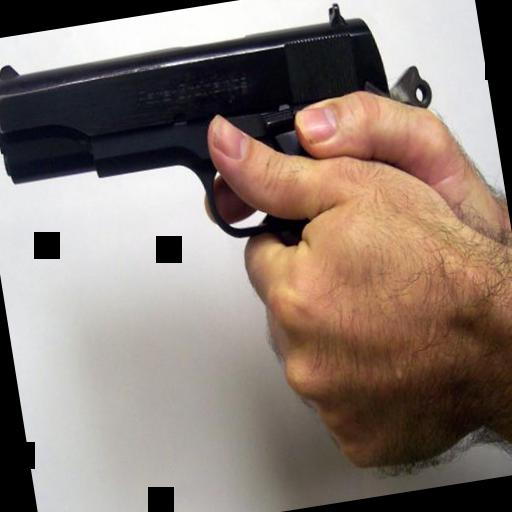Handgun: (0, 0, 471, 295)
